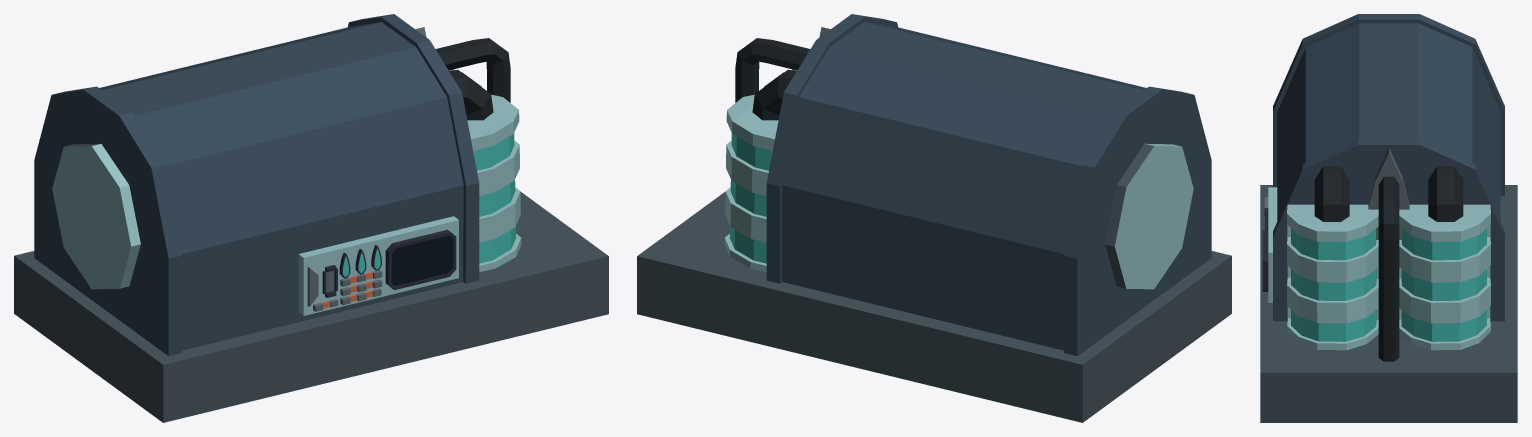
Rendered from Generator.fbx.
3 renders of one model, left to right at view 1: azimuth 30°, elevation 25°; view 2: azimuth 150°, elevation 25°; view 3: azimuth 270°, elevation 25°, orthographic. The views are drawn at different scales.
Visible parts, largest first — view 1: Generator, Generator.009, Generator.001, Panel, Generator.005, Generator.002; view 2: Generator, Generator.009, Generator.003, Generator.005, Generator.004; view 3: Generator, Generator.001, Generator.003, Generator.005, Generator.002, Generator.004, Generator.008, Panel.
Part boxes in pixels (left/top/right/bottom): Generator: left=14, top=14, right=608, bottom=422; Generator.009: left=52, top=143, right=140, bottom=289; Generator.001: left=467, top=94, right=521, bottom=271; Panel: left=385, top=229, right=456, bottom=289; Generator.005: left=435, top=38, right=510, bottom=102; Generator.002: left=449, top=69, right=493, bottom=120; Generator: left=637, top=14, right=1231, bottom=422; Generator.009: left=1105, top=143, right=1193, bottom=289; Generator.003: left=724, top=94, right=778, bottom=271; Generator.005: left=735, top=38, right=810, bottom=102; Generator.004: left=752, top=69, right=796, bottom=120; Generator: left=1260, top=14, right=1517, bottom=422; Generator.001: left=1287, top=204, right=1378, bottom=350; Generator.003: left=1399, top=204, right=1490, bottom=350; Generator.005: left=1378, top=176, right=1399, bottom=361; Generator.002: left=1314, top=166, right=1349, bottom=221; Generator.004: left=1428, top=166, right=1463, bottom=221; Generator.008: left=1368, top=148, right=1409, bottom=239; Panel: left=1262, top=230, right=1268, bottom=291.
Size of the model in its own units: 1605 by 930 by 903.
